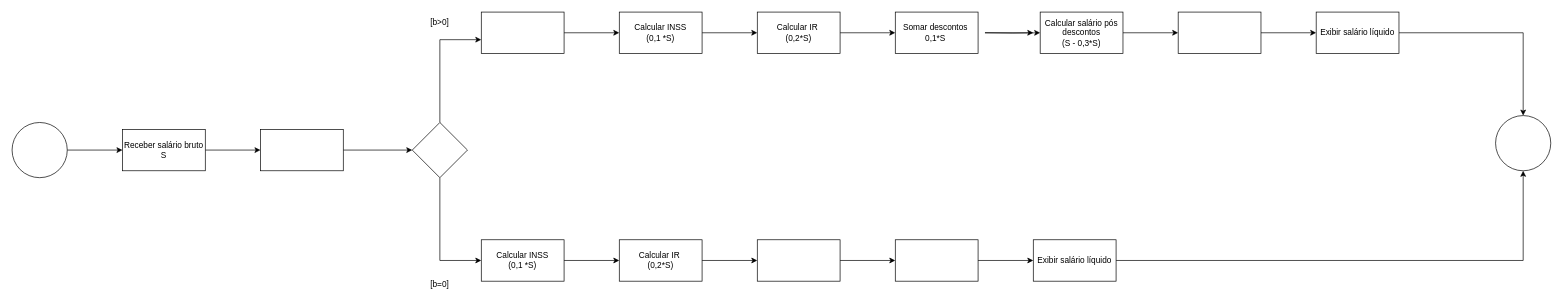
The diagram is 1563 pixels wide and 307 high, and some of its shapes have lost their labels. Each missing label, with the centre of its shape:
"Calcular salário líquido (S - 0,3*S)" goes at pixel 936 260.
"Calcular salário líquido (S - 0,3*S) + b" goes at pixel 1219 32.
"Receber benefício b" goes at pixel 301 150.
"Receber nome do benefício e valor do benefício" goes at pixel 522 32.
"Somar descontos (0,1*S + 0,2*S)" goes at pixel 798 260.
